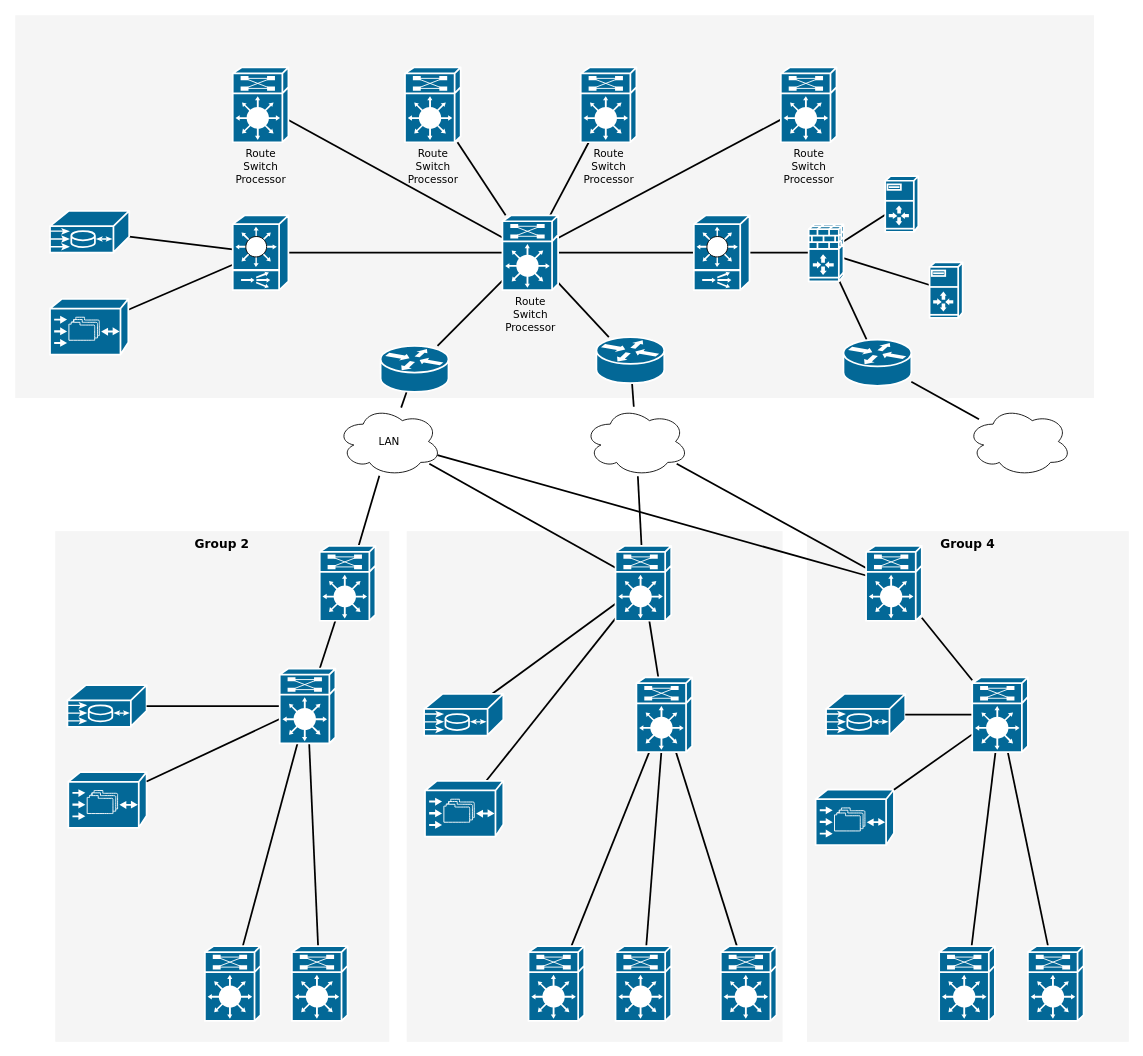
The diagram is 1143 pixels wide and 1056 high, and some of its shapes have lost their labels. The box of each missing label's shape, as (x1, y1, x2, y2) in pixels:
Cloud: (583, 406, 689, 476)
Group 1: (15, 15, 1094, 398)
Group 3: (406, 531, 782, 1041)
Internet: (966, 406, 1071, 476)
